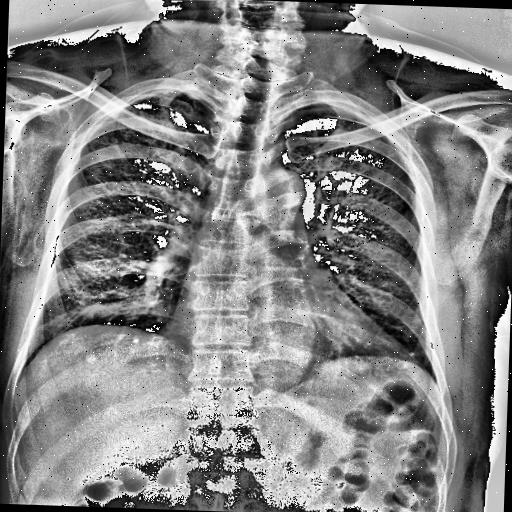0- Aortic enlargement: (249, 165, 306, 231), (250, 164, 308, 216), (252, 168, 306, 215)
11- Pleural thickening: (128, 85, 208, 104), (142, 86, 199, 100)
3- Cardiomegaly: (159, 288, 423, 392), (170, 286, 414, 372)
